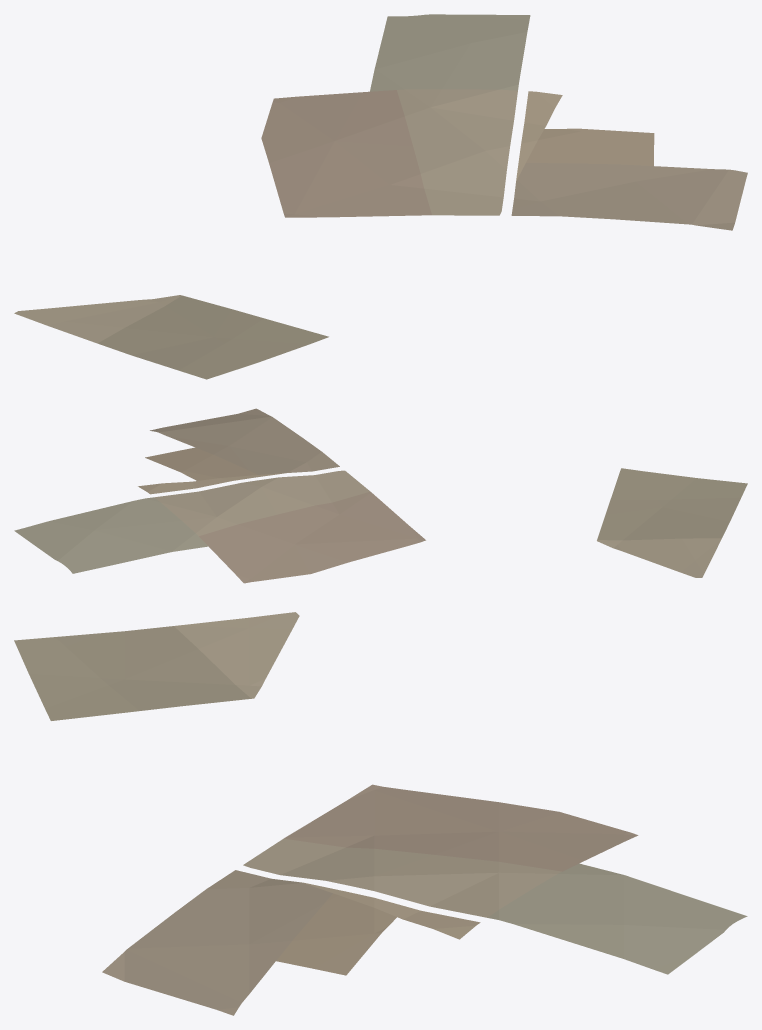
The model's file is farm_-23_-30_soil.glb.
3 views of the same model, one above another, from view 1: azimuth 30°, elevation 25°; view 2: azimuth 150°, elevation 25°; view 3: azimuth 270°, elevation 25° (orthographic). The views are drawn at different scales.
Visible parts, largest first — view 1: geometry_0; view 2: geometry_0; view 3: geometry_0.
Boxes of the visible parts, x1,y1,x2,y2 form: geometry_0: [14, 14, 747, 379]; geometry_0: [14, 408, 747, 583]; geometry_0: [14, 612, 747, 1015].
Size of the model in its own units: 592 by 23.94 by 470.
